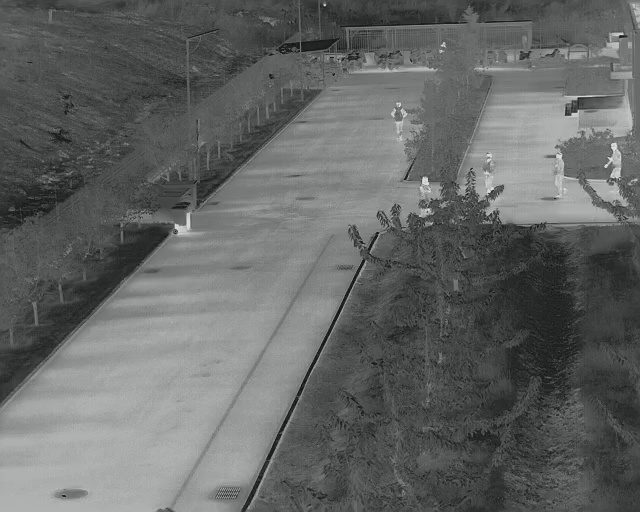person: (552, 151, 567, 201), (390, 99, 407, 141), (604, 141, 622, 180), (483, 151, 496, 195), (418, 174, 432, 205)
